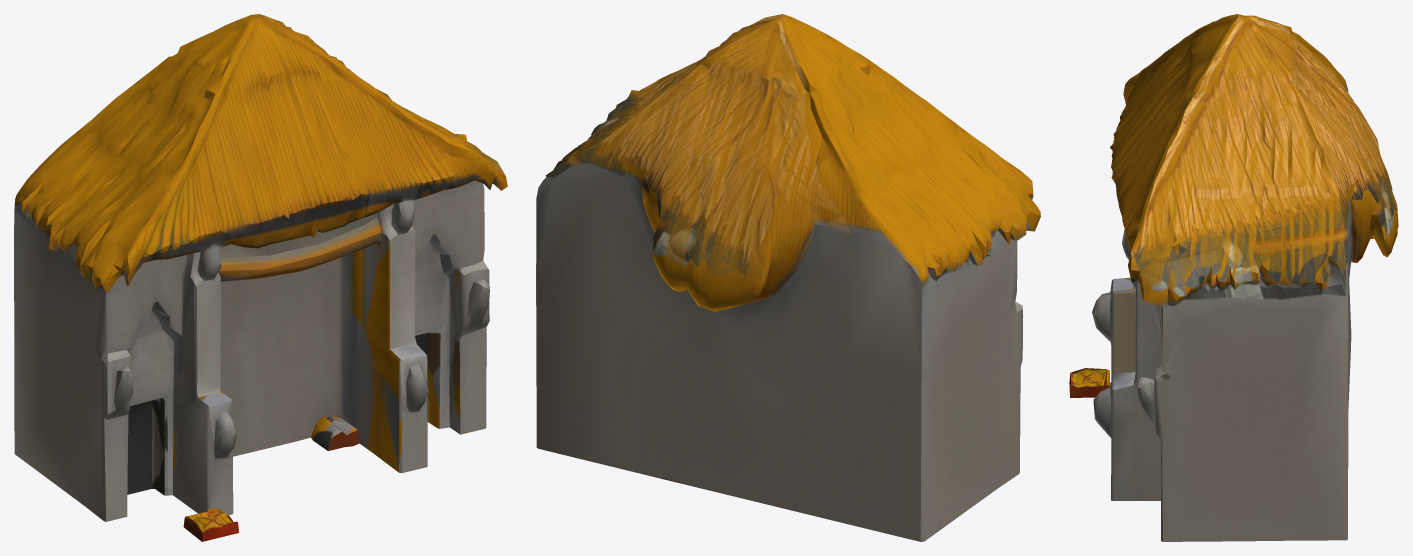
File: tawantinsuyu_mercado.glb
The picture shows the model from 3 angles, left to right: view 1: azimuth 30°, elevation 25°; view 2: azimuth 150°, elevation 25°; view 3: azimuth 270°, elevation 25°; orthographic projection. The views are drawn at different scales.
Visible parts, largest first — view 1: geometry_0; view 2: geometry_0; view 3: geometry_0.
Boxes of the visible parts, <box> form: geometry_0: <box>14,14,507,541</box>; geometry_0: <box>536,14,1040,541</box>; geometry_0: <box>1069,14,1398,541</box>.
Size of the model in its own units: 2.4 by 2.4 by 1.66.
1 material, 1 textured.
